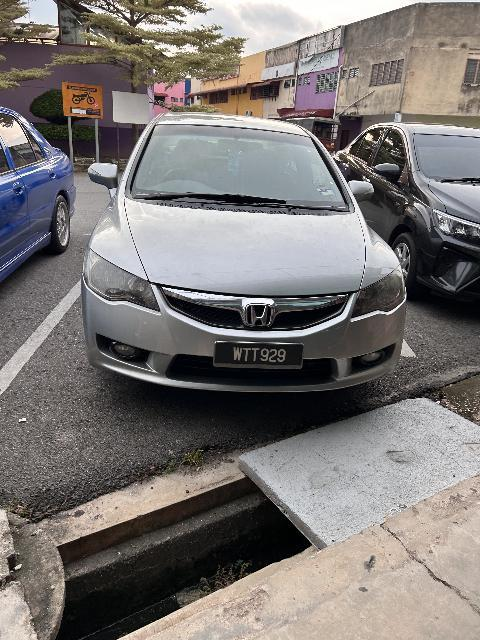License_Plate: (213, 341, 304, 376)
WTT929: (213, 341, 304, 376)
car: (60, 105, 406, 414)
